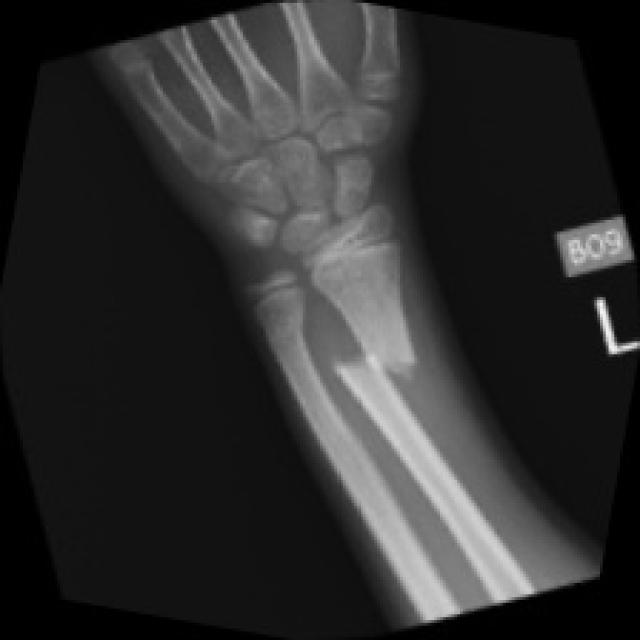fracture: (320, 322, 446, 426)
